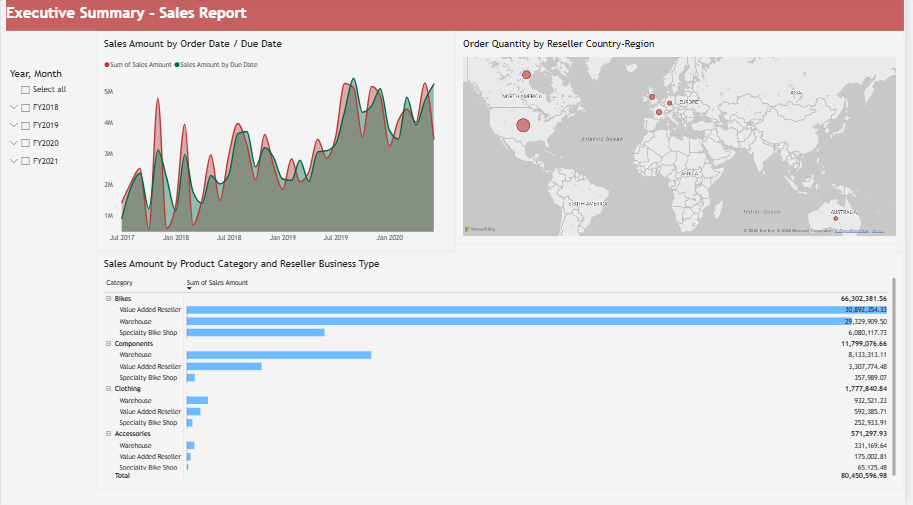

This screenshot's page, from the dashboard's own definition file:
{"tool":"powerbi","page":{"name":"Report","canvas":[1920,1080],"ordinal":0},"visuals":[{"type":"textbox","box":[10.6,0,1909.1,72.3],"z":0},{"type":"areaChart","title":"Sales Amount by Order Date / Due Date","fields":{"Category":["Date.Fiscal.Month"],"Y":["Sum(Sales.Sales Amount)","Sales.Sales Amount by Due Date"]},"box":[202,72.3,763.2,467.7],"z":1000},{"type":"map","title":"Order Quantity by Reseller Country-Region","fields":{"Category":["Reseller.Country-Region"],"Size":["Sum(Sales.Order Quantity)"]},"box":[965.2,72.3,954.6,452.8],"z":2000},{"type":"pivotTable","title":"Sales Amount by Product Category and Reseller Business Type","fields":{"Rows":["Product.Category","Reseller.Business Type"],"Values":["Sum(Sales.Sales Amount)"]},"box":[202,540,1717.8,506],"z":3000},{"type":"slicer","fields":{"Values":["Date.Fiscal.Fiscal Year","Date.Fiscal.Month"]},"box":[10.1,151.2,191.3,297.6],"z":3001}]}

Visuals, with their boxes in screenshot pixels (x1, y1, x2, y2), scaled from the page's 1920x1080 canvas onto the 913x505 screenshot:
textbox: 5:0:912:34
"Sales Amount by Order Date / Due Date" areaChart: 96:34:459:252
"Order Quantity by Reseller Country-Region" map: 459:34:912:246
"Sales Amount by Product Category and Reseller Business Type" pivotTable: 96:252:912:489
slicer - Date.Fiscal.Fiscal Year x Date.Fiscal.Month: 5:71:96:210
